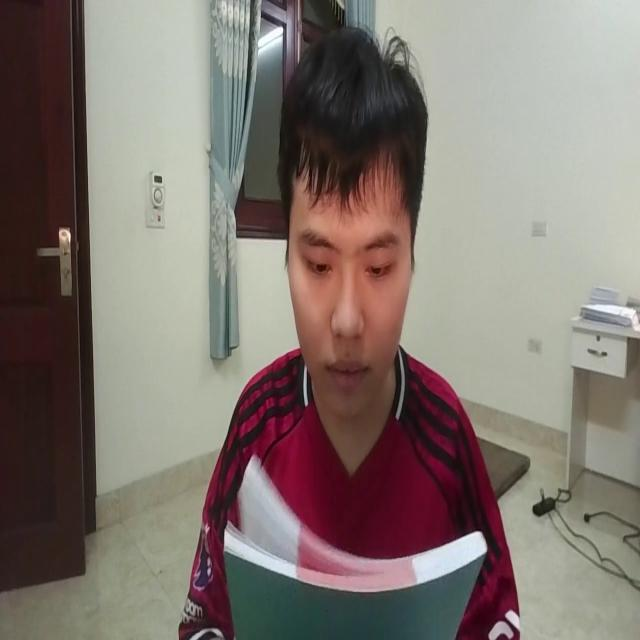book: (215, 447, 489, 640)
student: (185, 21, 520, 640)
